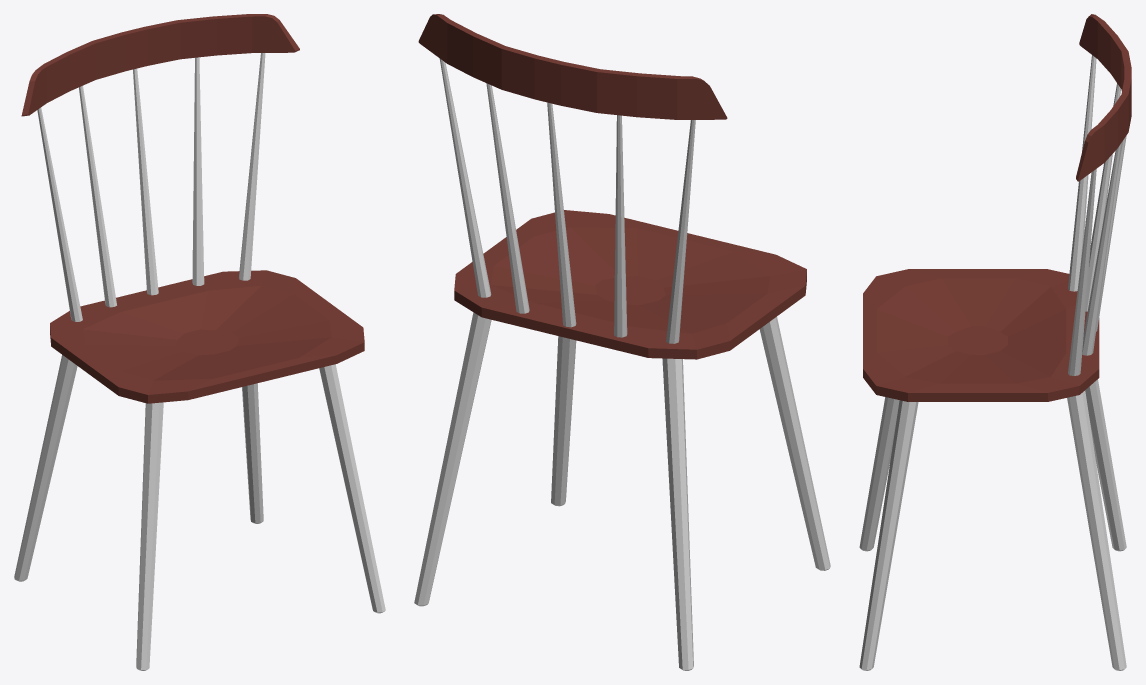
The model's file is C_Chair.fbx.
The picture shows the model from 3 angles, left to right: view 1: azimuth 30°, elevation 25°; view 2: azimuth 150°, elevation 25°; view 3: azimuth 270°, elevation 25°; orthographic projection. The views are drawn at different scales.
Parts seen in each view (by area): view 1: C_Chair; view 2: C_Chair; view 3: C_Chair.
Part boxes in pixels (x1=…): C_Chair: x1=14, y1=14, x2=385, y2=670; C_Chair: x1=414, y1=14, x2=830, y2=670; C_Chair: x1=859, y1=14, x2=1131, y2=670.
Bounding box in the file's own units: 412 × 338 × 734.
